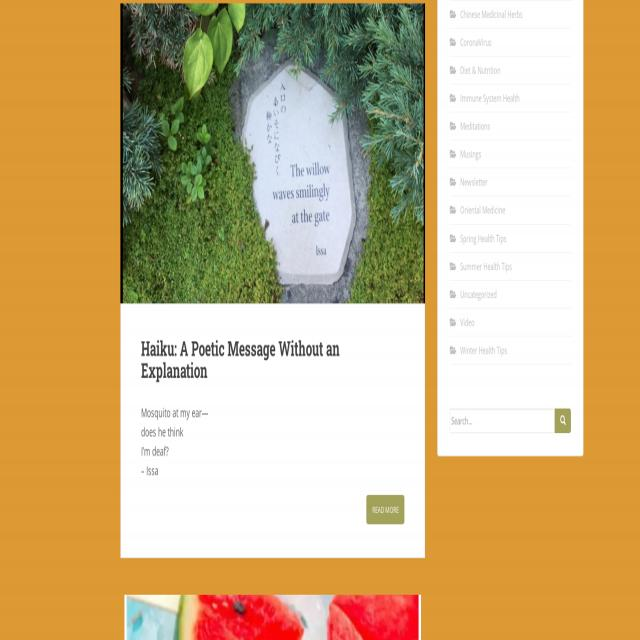button: (121, 4, 425, 303), (126, 594, 419, 640), (366, 495, 404, 524), (555, 408, 571, 434)
field: (450, 408, 554, 434)
